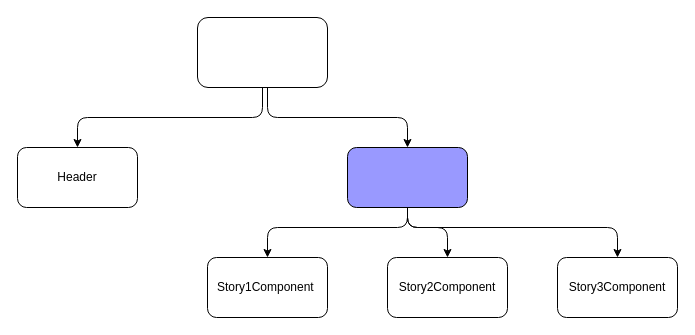
Image size: 695x335. Some labels were removed from this diagram. Each missing label, with the centre of its shape:
App: (x=262, y=52)
Story Control: (x=407, y=177)
